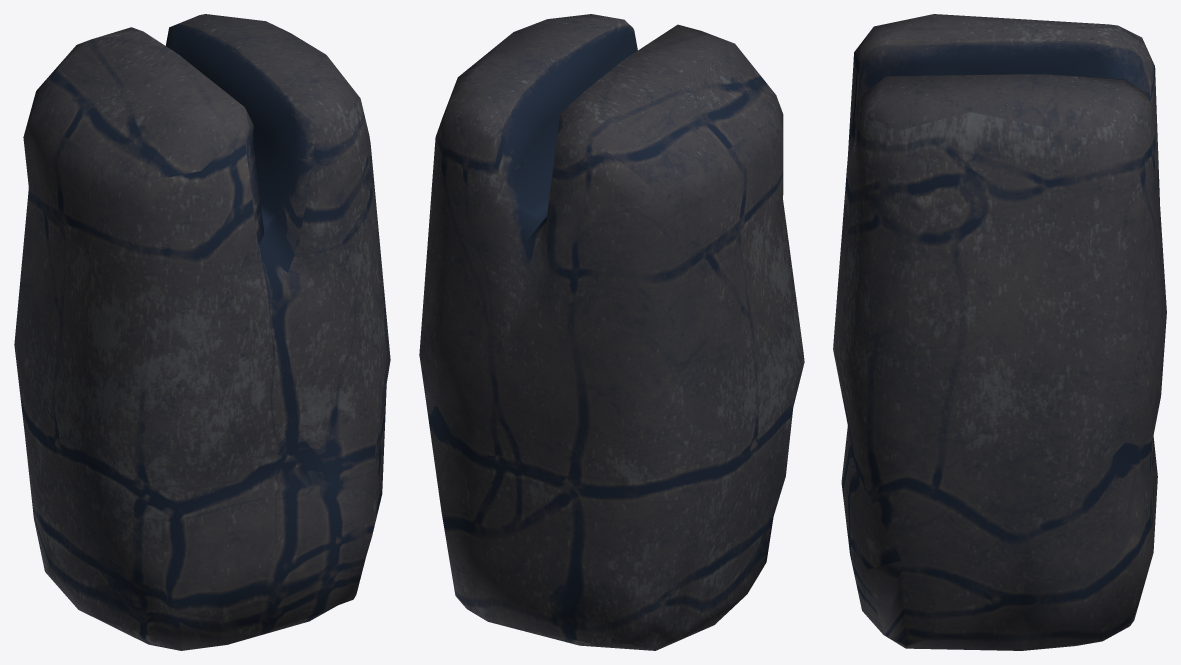
Rendered from obstacle_moyen1.obj.
3 views of the same model, side by side, from view 1: azimuth 30°, elevation 25°; view 2: azimuth 150°, elevation 25°; view 3: azimuth 270°, elevation 25° (orthographic). The views are drawn at different scales.
Parts seen in each view (by area): view 1: obstacle_moyen1.001; view 2: obstacle_moyen1.001; view 3: obstacle_moyen1.001.
Part boxes in pixels (x1,y1,x2,y2): obstacle_moyen1.001: [14, 14, 390, 650]; obstacle_moyen1.001: [419, 14, 804, 650]; obstacle_moyen1.001: [833, 14, 1166, 650].
Bounding box in the file's own units: 1077 × 1859 × 1007.
1 material, 1 textured.
